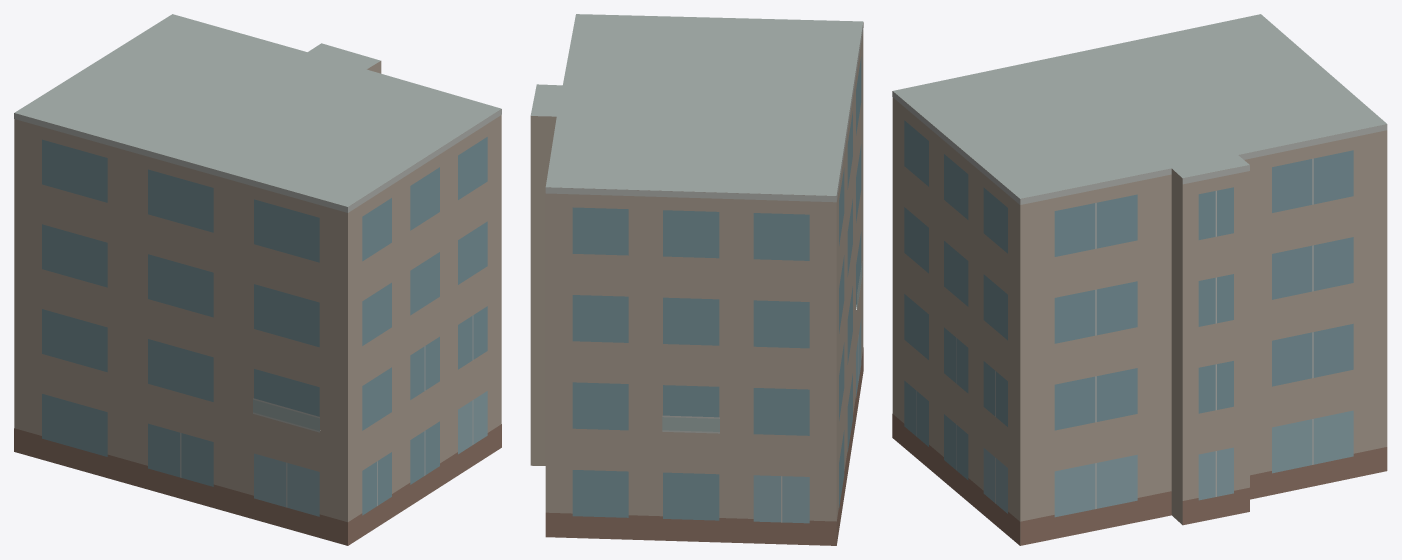
Rendered from survey-upis-32697337.glb.
3 renders of one model, left to right at view 1: azimuth 30°, elevation 25°; view 2: azimuth 150°, elevation 25°; view 3: azimuth 270°, elevation 25°, orthographic. The views are drawn at different scales.
Visible parts, largest first — view 1: survey-upis-32697337.tmp; view 2: survey-upis-32697337.tmp; view 3: survey-upis-32697337.tmp.
Part boxes in pixels (x1,y1,x2,y2): survey-upis-32697337.tmp: (14,14,501,545); survey-upis-32697337.tmp: (530,14,863,545); survey-upis-32697337.tmp: (892,14,1387,545).
Size of the model in its own units: 15.78 by 13.8 by 17.85.
